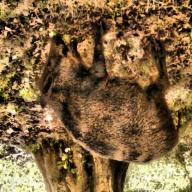boar: (20, 21, 192, 167)
